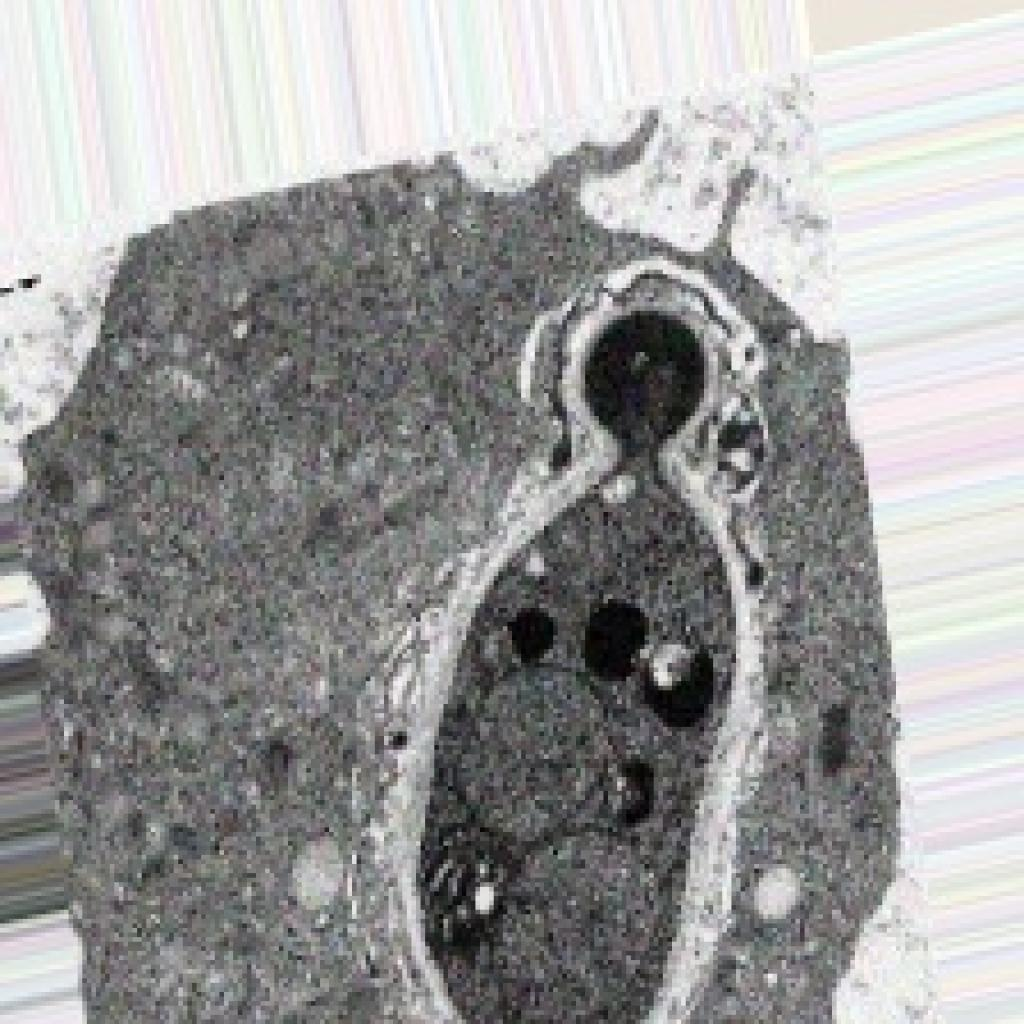Rodbacteria: (9, 68, 928, 1020)
